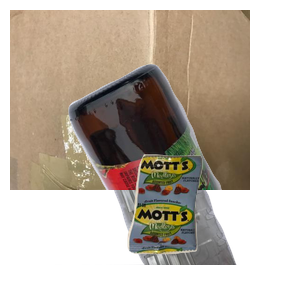cardboard: (10, 10, 250, 190)
glass: (66, 61, 300, 241)
plastic: (55, 120, 284, 300)
trash: (125, 152, 300, 300)
